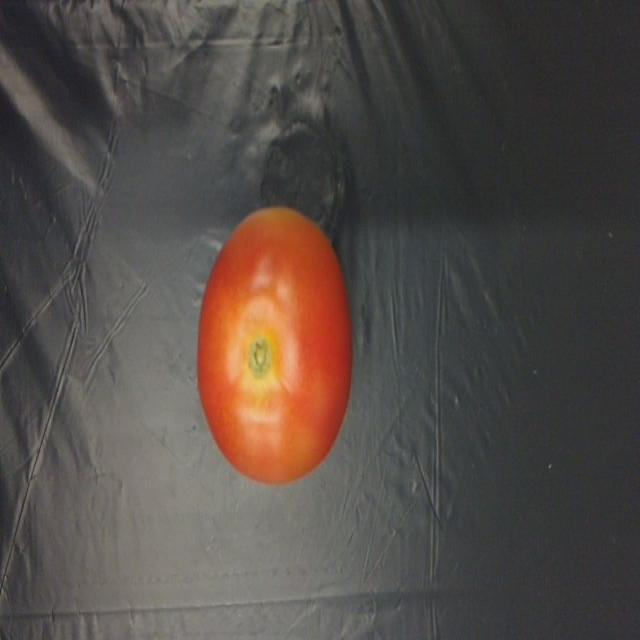sari: (195, 196, 372, 497)
